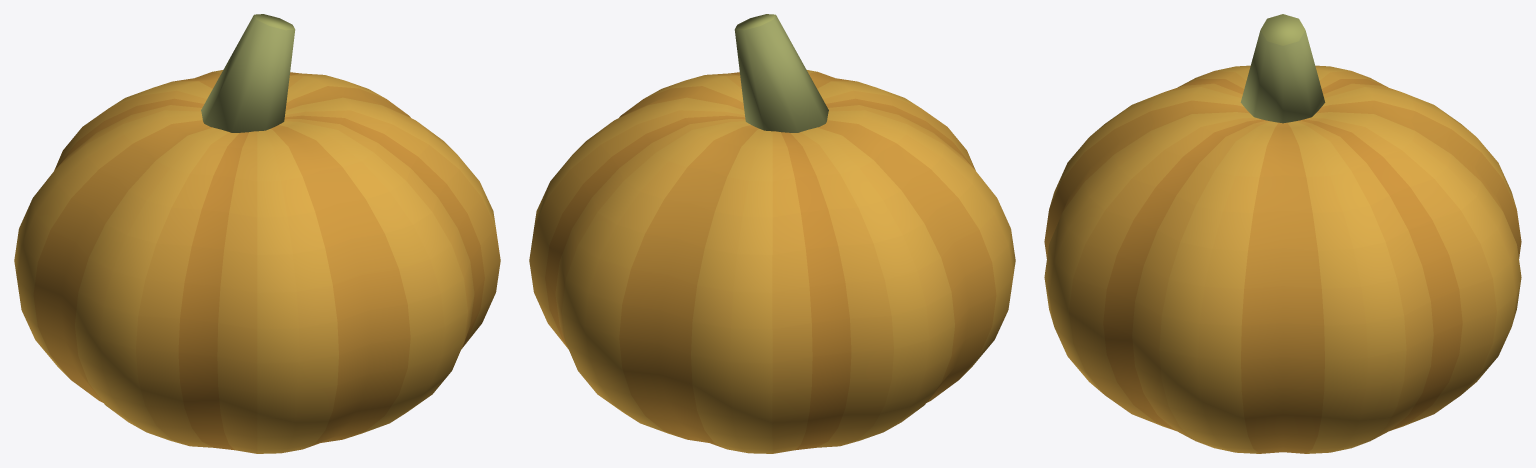
The model's file is Pumpkin.glb.
3 renders of one model, left to right at view 1: azimuth 30°, elevation 25°; view 2: azimuth 150°, elevation 25°; view 3: azimuth 270°, elevation 25°, orthographic.
Visible parts, largest first — view 1: Pumpkin, PumpkinStem; view 2: Pumpkin, PumpkinStem; view 3: Pumpkin, PumpkinStem.
Part boxes in pixels (x1,y1,x2,y2): Pumpkin: [14, 70, 500, 453]; PumpkinStem: [201, 14, 295, 132]; Pumpkin: [529, 70, 1015, 453]; PumpkinStem: [734, 14, 828, 132]; Pumpkin: [1044, 65, 1521, 453]; PumpkinStem: [1240, 14, 1325, 123].
Bounding box in the file's own units: 1.06 × 0.9932 × 1.06.
